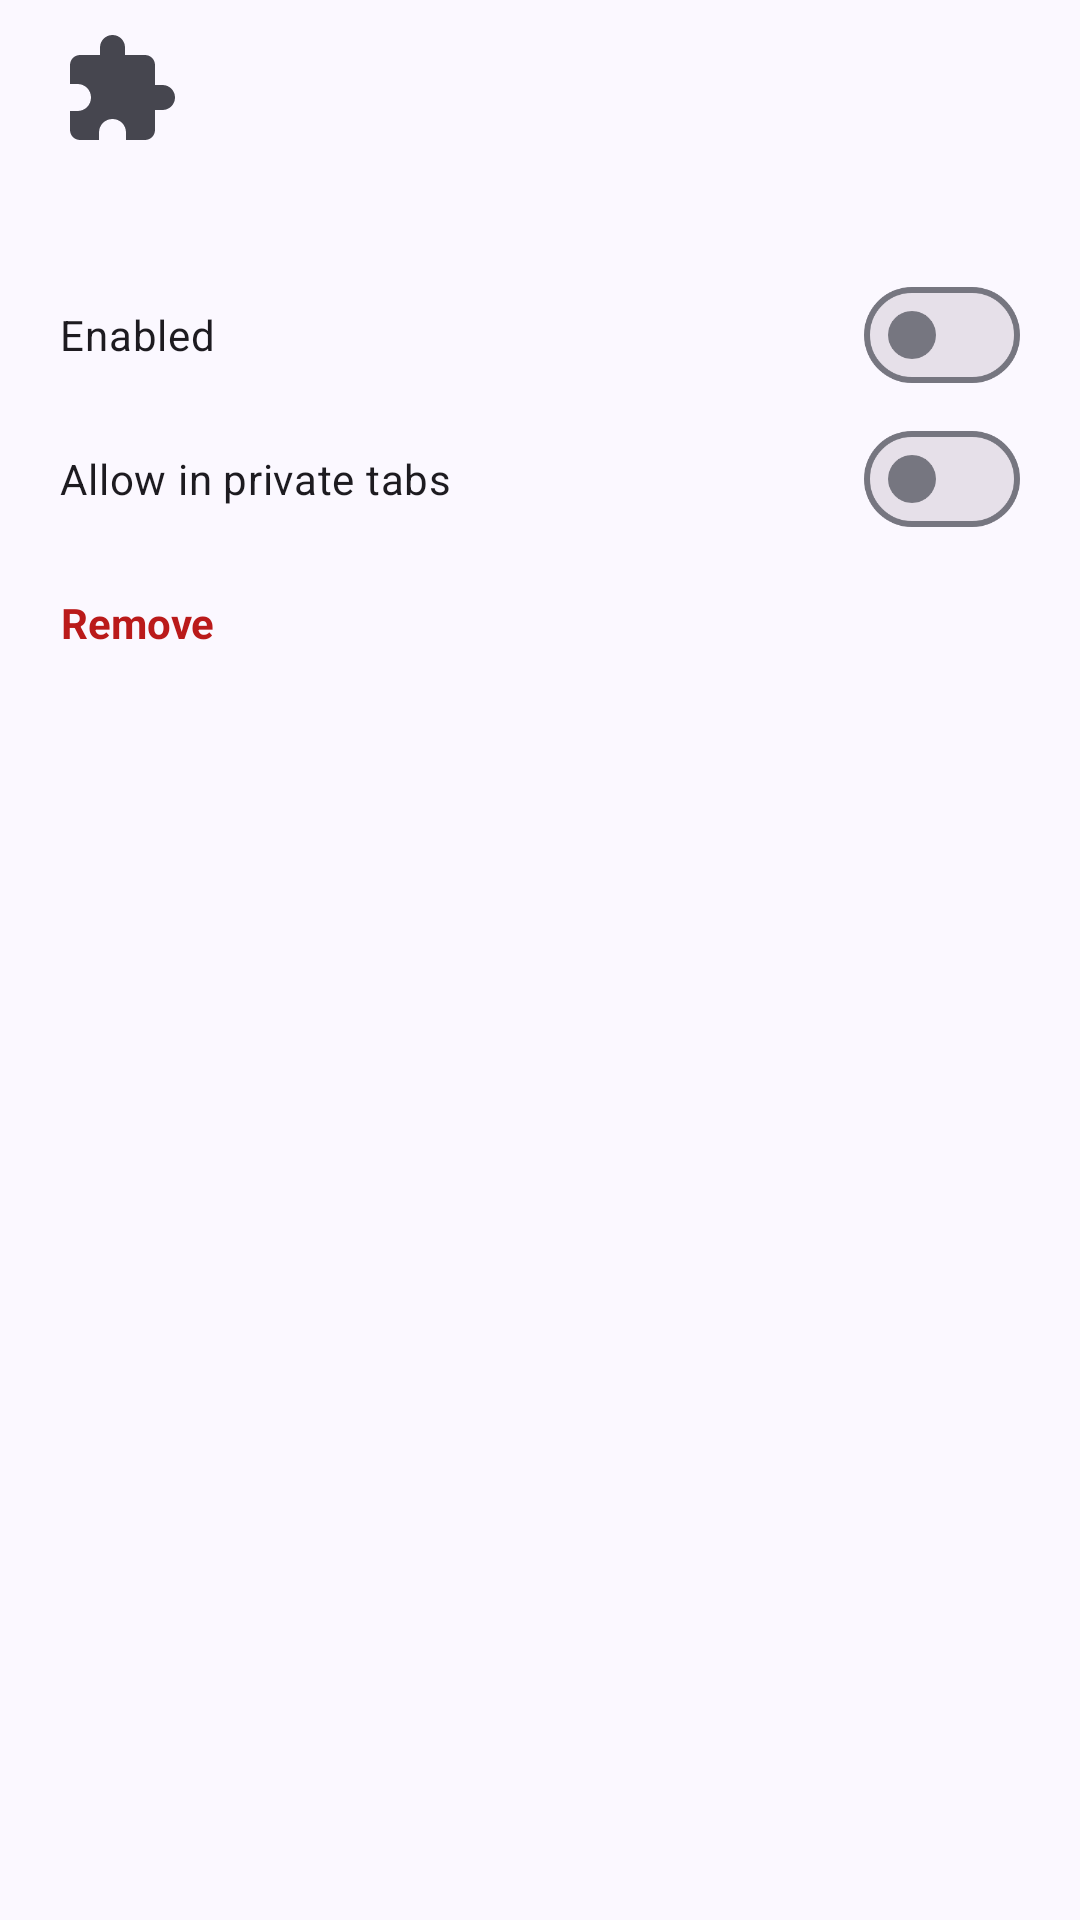

Where icons sit on this 1080px x 1920px app screen, as [left=x1, top=y1, right=x2, bottom=y2]:
extension: [left=70, top=35, right=175, bottom=140]
